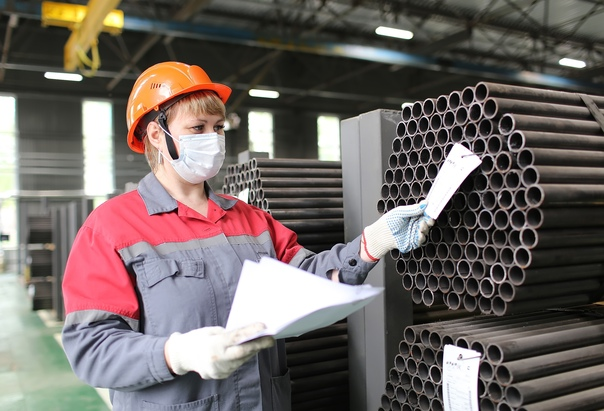person: (62, 62, 434, 411)
